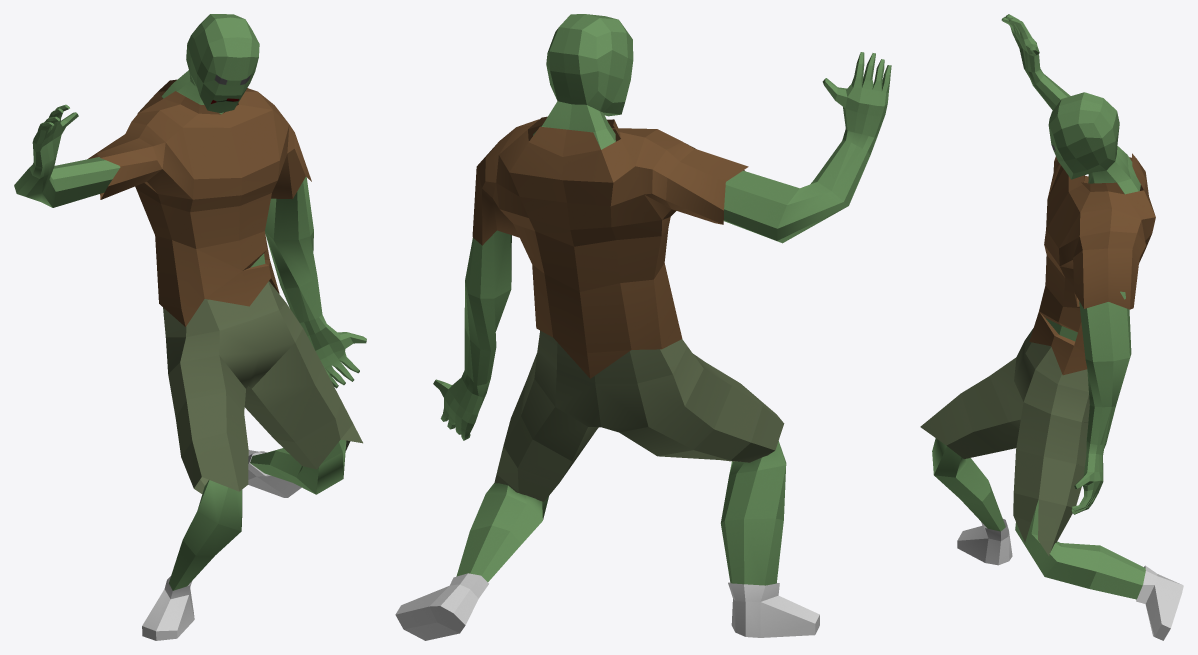
The model's file is ZombieDead(23).obj.
3 views of the same model, side by side, from view 1: azimuth 30°, elevation 25°; view 2: azimuth 150°, elevation 25°; view 3: azimuth 270°, elevation 25° (orthographic). The views are drawn at different scales.
Parts seen in each view (by area): view 1: Object001; view 2: Object001; view 3: Object001.
Boxes of the visible parts, x1,y1,x2,y2 form: Object001: [14, 14, 366, 640]; Object001: [395, 14, 891, 640]; Object001: [920, 14, 1183, 640].
Size of the model in its own units: 36.45 by 52.46 by 24.8.
